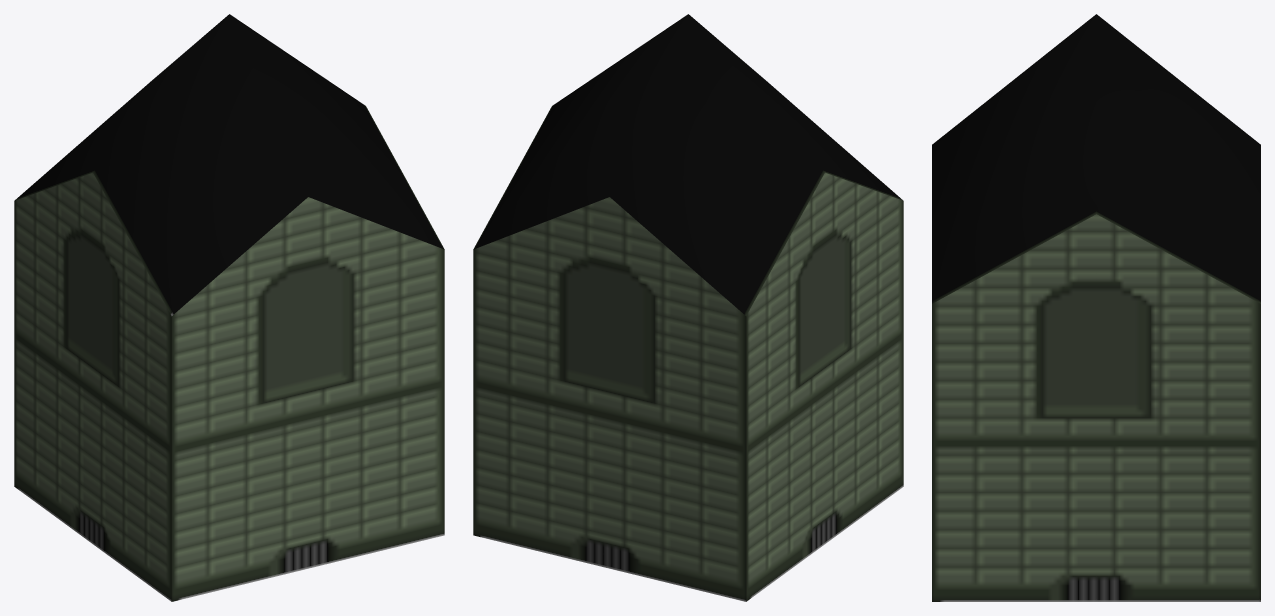
File: textWall.fbx
3 views of the same model, side by side, from view 1: azimuth 30°, elevation 25°; view 2: azimuth 150°, elevation 25°; view 3: azimuth 270°, elevation 25° (orthographic). The views are drawn at different scales.
Parts seen in each view (by area): view 1: pCube1; view 2: pCube1; view 3: pCube1.
Boxes of the visible parts, x1,y1,x2,y2 form: pCube1: (14, 14, 444, 601); pCube1: (473, 14, 903, 601); pCube1: (932, 14, 1260, 601).
Size of the model in its own units: 1 by 1.74 by 1.
Materials: 1 (1 with a texture image).
